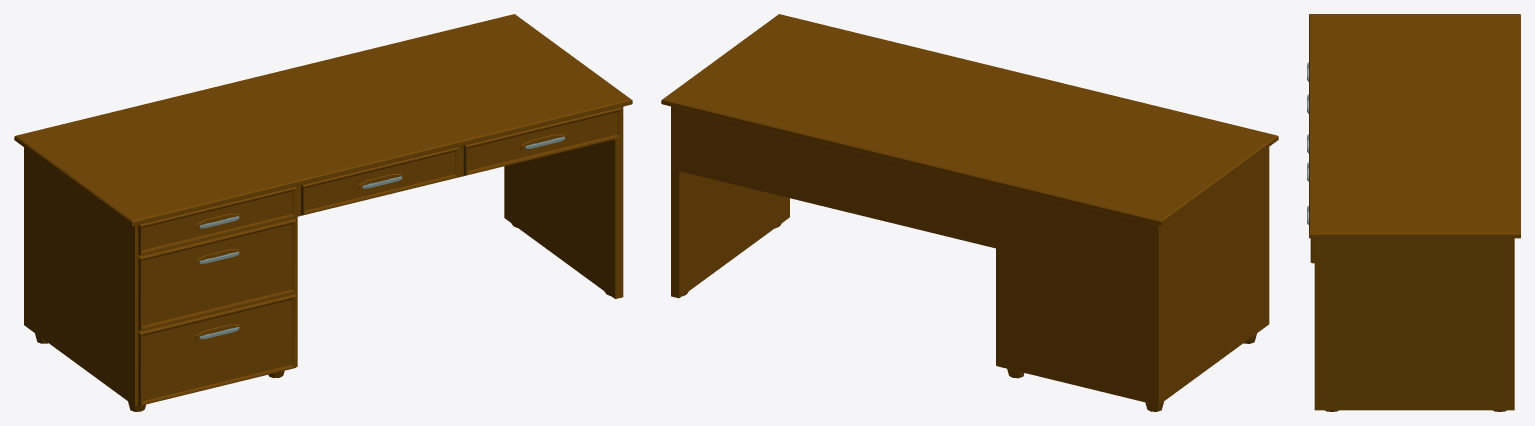
The model's file is Table_Model.fbx.
3 renders of one model, left to right at view 1: azimuth 30°, elevation 25°; view 2: azimuth 150°, elevation 25°; view 3: azimuth 270°, elevation 25°, orthographic. The views are drawn at different scales.
Parts seen in each view (by area): view 1: Table, BoxLarge2, BoxLarge1, SlimBox3, SlimBox1, SlimBox2; view 2: Table; view 3: Table.
Boxes of the visible parts, x1,y1,x2,y2 form: Table: (14, 14, 632, 411); BoxLarge2: (138, 294, 295, 405); BoxLarge1: (138, 219, 295, 330); SlimBox3: (463, 107, 621, 175); SlimBox1: (138, 186, 295, 254); SlimBox2: (301, 147, 458, 215); Table: (661, 14, 1278, 411); Table: (1309, 14, 1520, 411).
Size of the model in its own units: 239 by 91.79 by 98.12.
